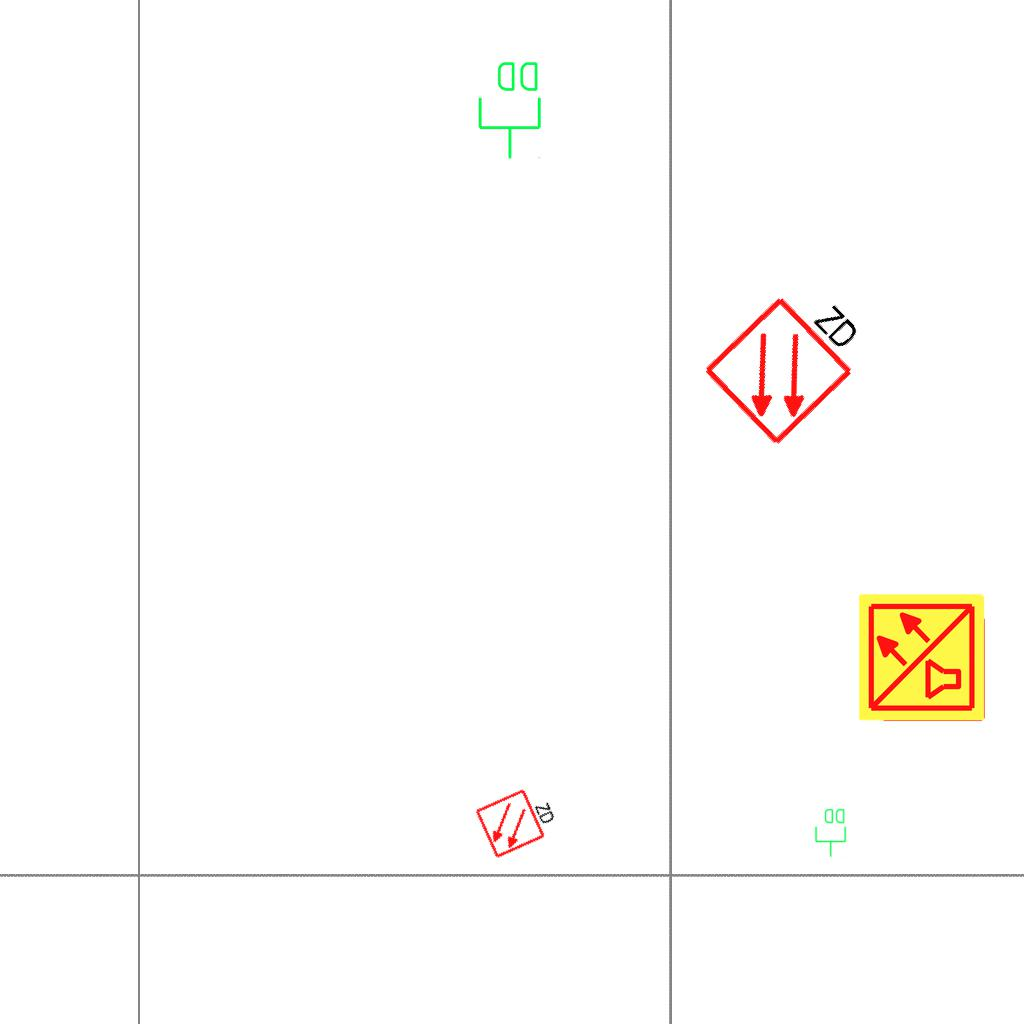Datenanschluss_zweifach: (476, 58, 545, 161), (814, 807, 848, 858)
OKW_Multisensormelder_(Kombination_optischer_Rauch-Kahlenmonoxid_Waerme-Melder): (856, 591, 988, 723)
ZD_Melder_in_Zwischendecke_mit_Revisionsoeffnung_mind_40_x_40_cm: (697, 263, 885, 450), (473, 777, 564, 861)
